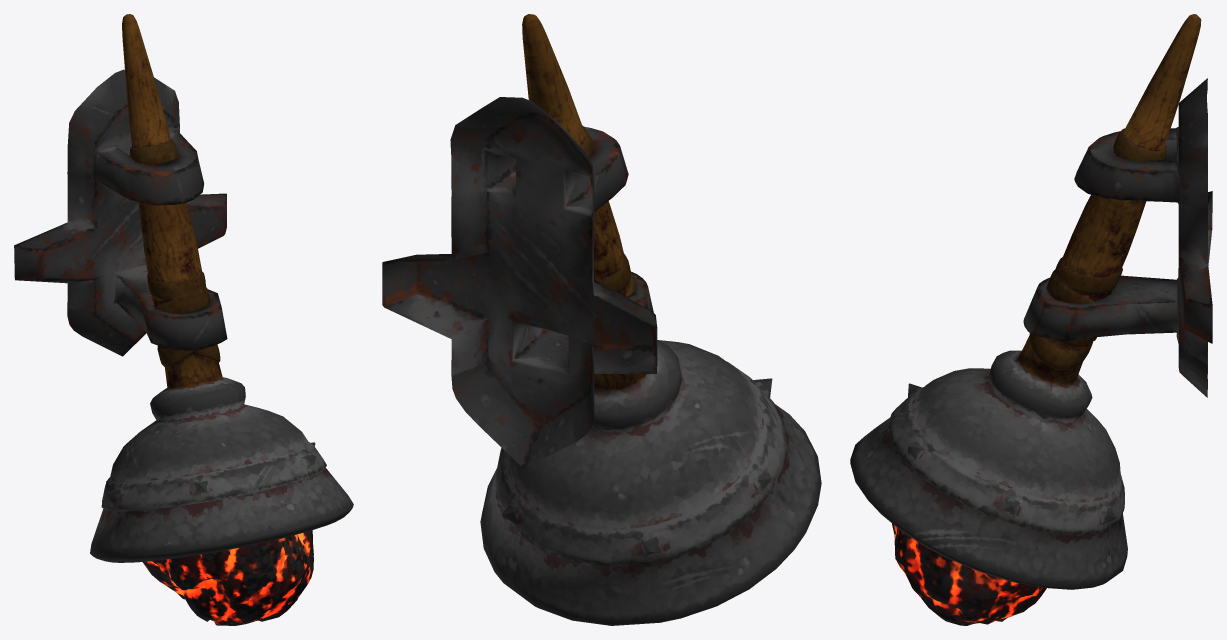
File: DungeonWallTorch.fbx
3 views of the same model, side by side, from view 1: azimuth 30°, elevation 25°; view 2: azimuth 150°, elevation 25°; view 3: azimuth 270°, elevation 25° (orthographic). The views are drawn at different scales.
Parts seen in each view (by area): view 1: DungeonWallTorchModel; view 2: DungeonWallTorchModel; view 3: DungeonWallTorchModel.
Boxes of the visible parts, x1,y1,x2,y2 form: DungeonWallTorchModel: (14, 14, 353, 625); DungeonWallTorchModel: (382, 14, 821, 625); DungeonWallTorchModel: (850, 14, 1212, 625).
Bounding box in the file's own units: 0.6502 × 1.44 × 0.796.
